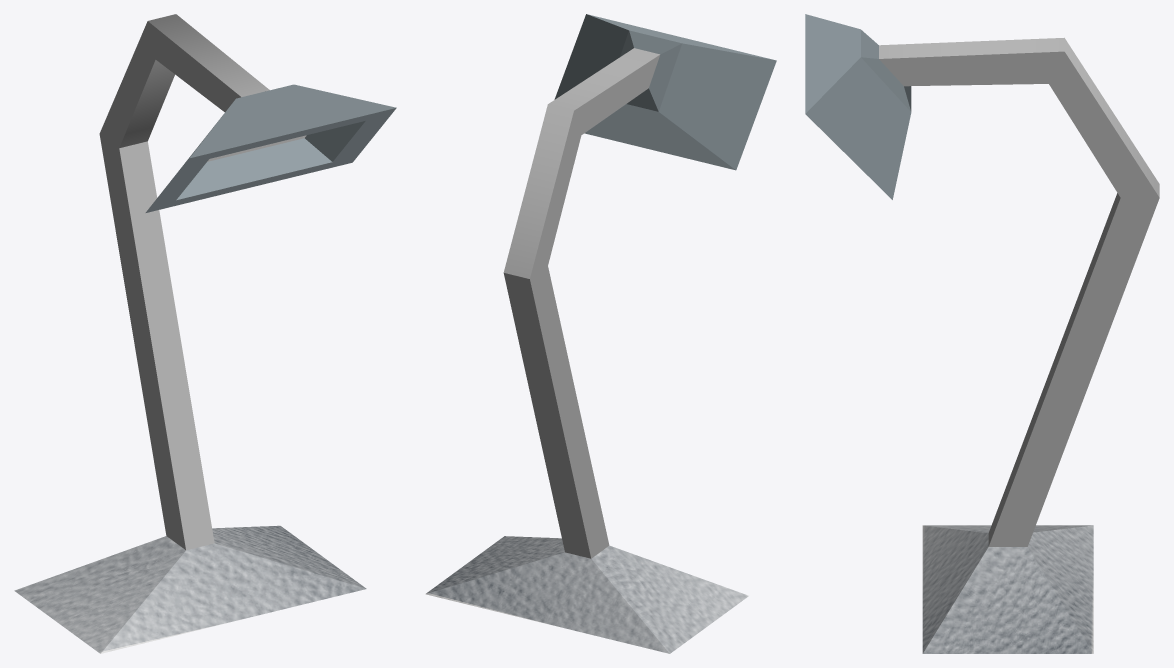
Rendered from spotlight1.fbx.
The picture shows the model from 3 angles, left to right: view 1: azimuth 30°, elevation 25°; view 2: azimuth 150°, elevation 25°; view 3: azimuth 270°, elevation 25°; orthographic projection. The views are drawn at different scales.
Parts seen in each view (by area): view 1: spotlight:pCube1; view 2: spotlight:pCube1; view 3: spotlight:pCube1.
Boxes of the visible parts, box(x1,y1,x2,y2) form: spotlight:pCube1: box(14, 14, 396, 653); spotlight:pCube1: box(425, 14, 776, 653); spotlight:pCube1: box(805, 14, 1159, 653).
Bounding box in the file's own units: 178 × 353 × 207.
1 material, 1 textured.
